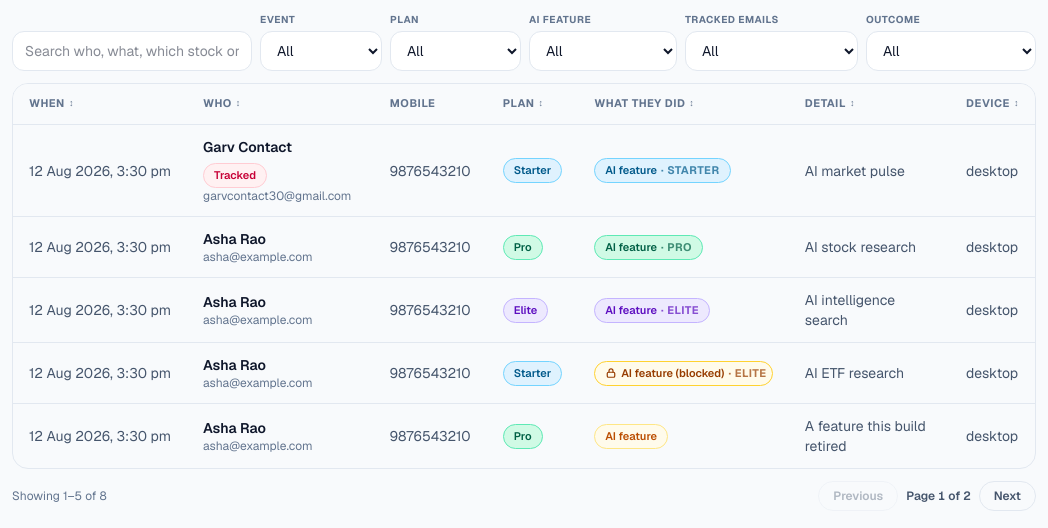
Test: the activity feed's controls › narrows to the features one plan buys, whoever touched them
The width and height of the screenshot is (1048, 528).
Select "Elite features" in the dropdown labelled "AI feature" at (603, 51), box [529,31,677,71]
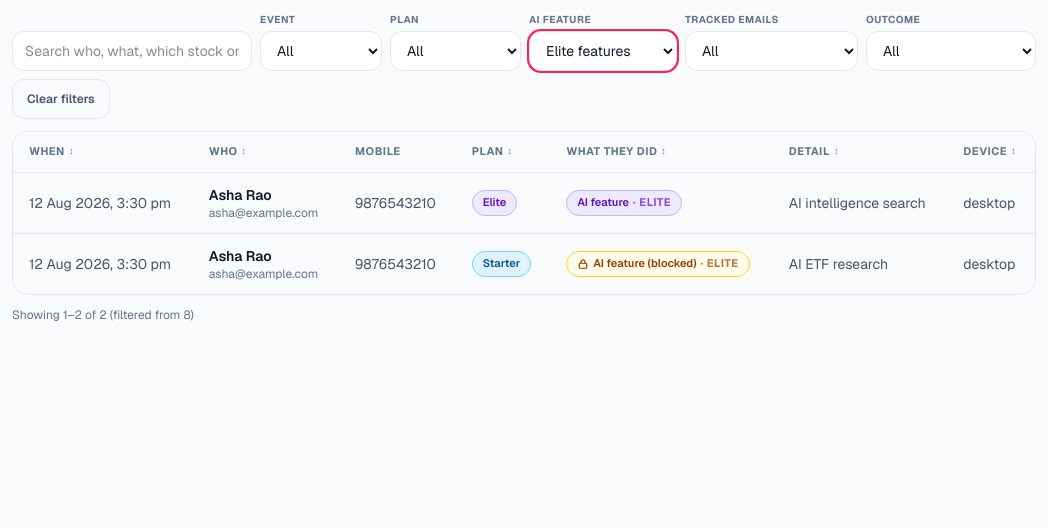
Expected: the element titled "Elite AI feature" is shown, [566,190,682,216]
Now the row titled "Pro AI feature" is gone
